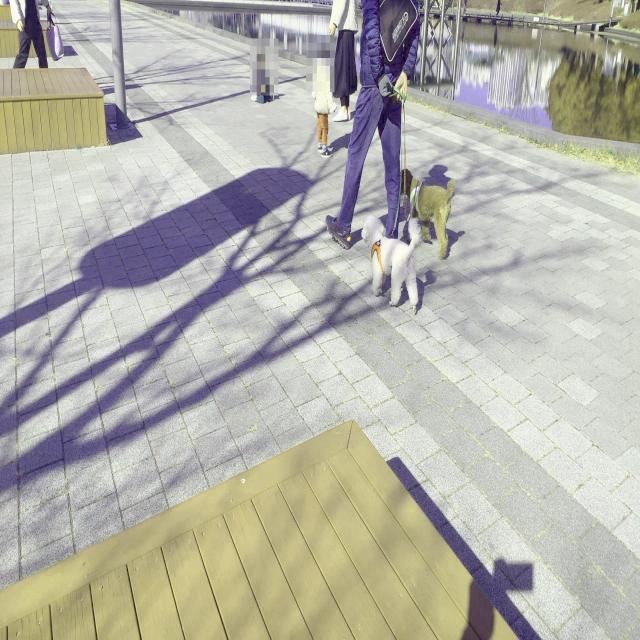Leashed_Dog: (371, 63, 456, 259), (361, 71, 421, 315)
